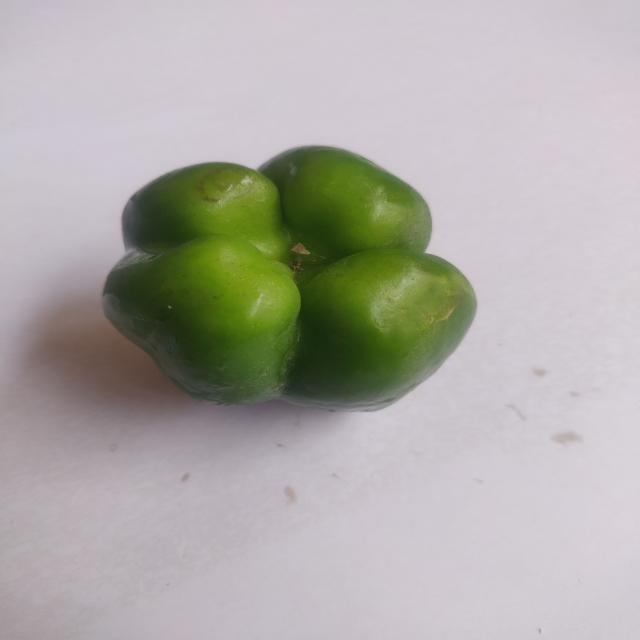Capsicum: (82, 134, 494, 434)
